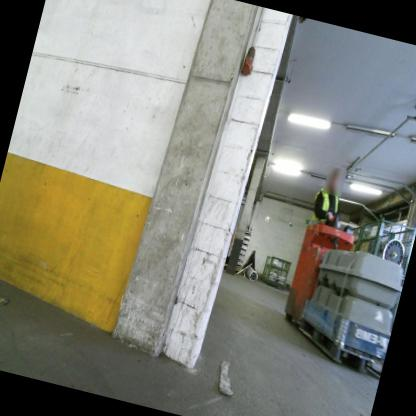pallet: (291, 316, 389, 375)
pallet_truck: (275, 209, 369, 349)
stillage: (351, 207, 416, 283), (342, 218, 397, 268), (259, 251, 295, 291)
